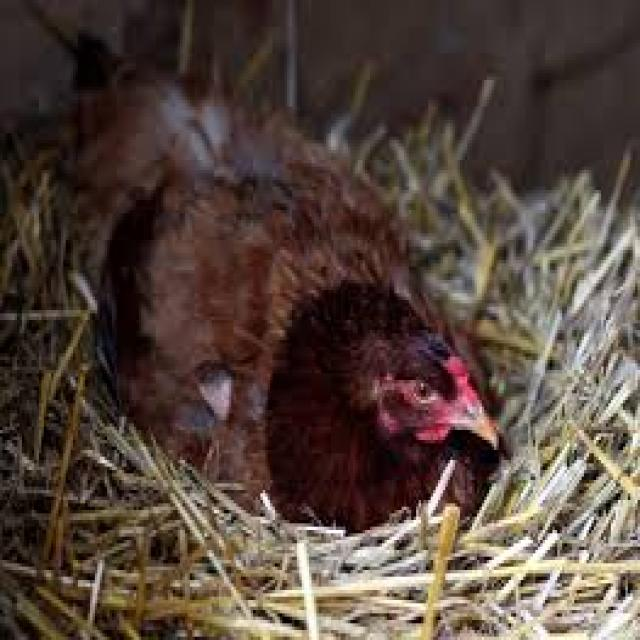Chicken: (74, 24, 524, 540)
